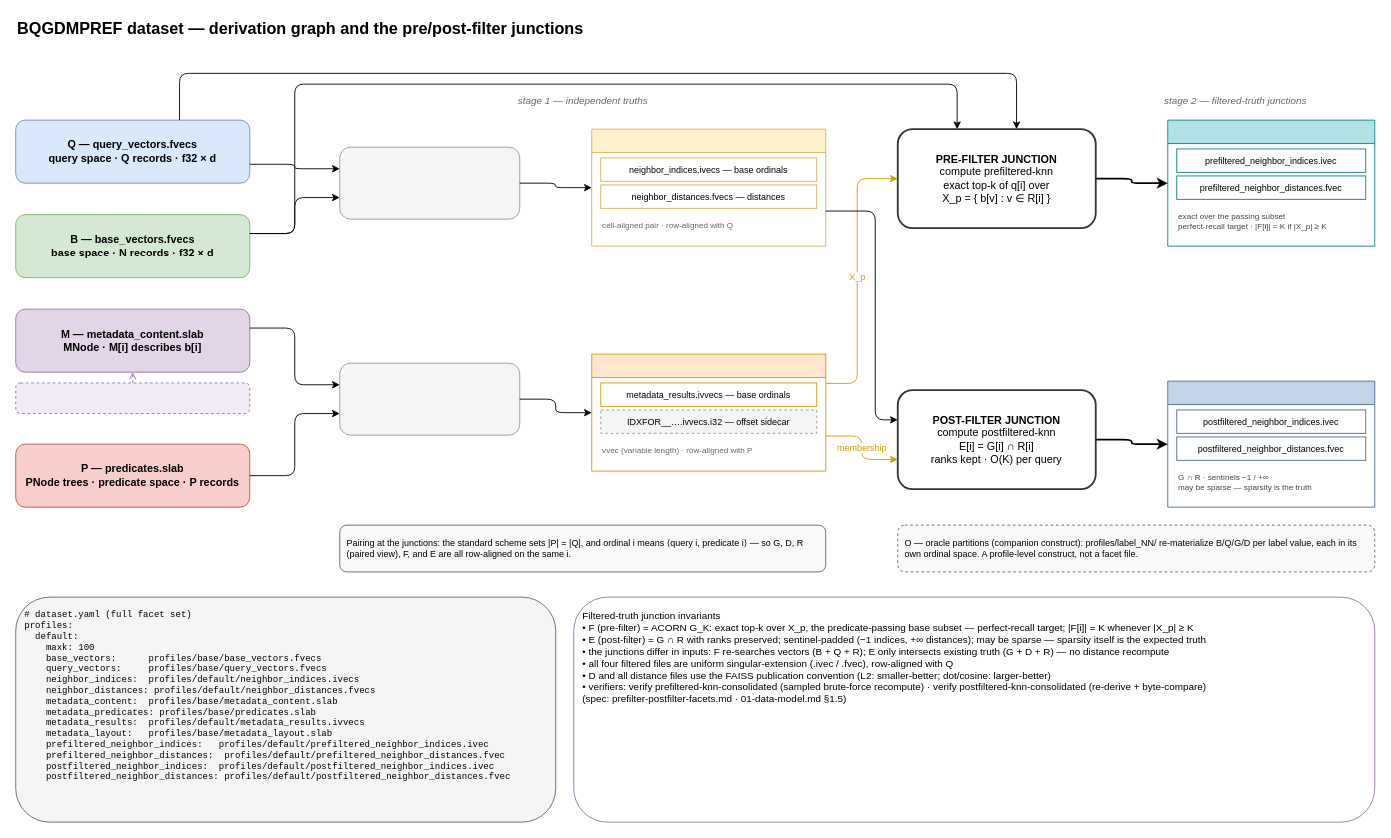
This 1391x838 diagram has some shape labels left out. Here are the shapes that lost their labels. From the top down, the box of each, then its label:
(339, 146, 520, 219): compute knn exact top-k of q[i] over all of B
(591, 128, 826, 246): G + D — unfiltered ground truth
(1167, 119, 1375, 246): F — prefiltered ground truth
(15, 382, 250, 414): metadata_layout.slab — schema namespace
(339, 362, 520, 435): compute evaluate-predicates scan M against each P[j]
(591, 353, 826, 471): R — predicate match oracle
(1167, 380, 1375, 507): E — postfiltered ground truth
